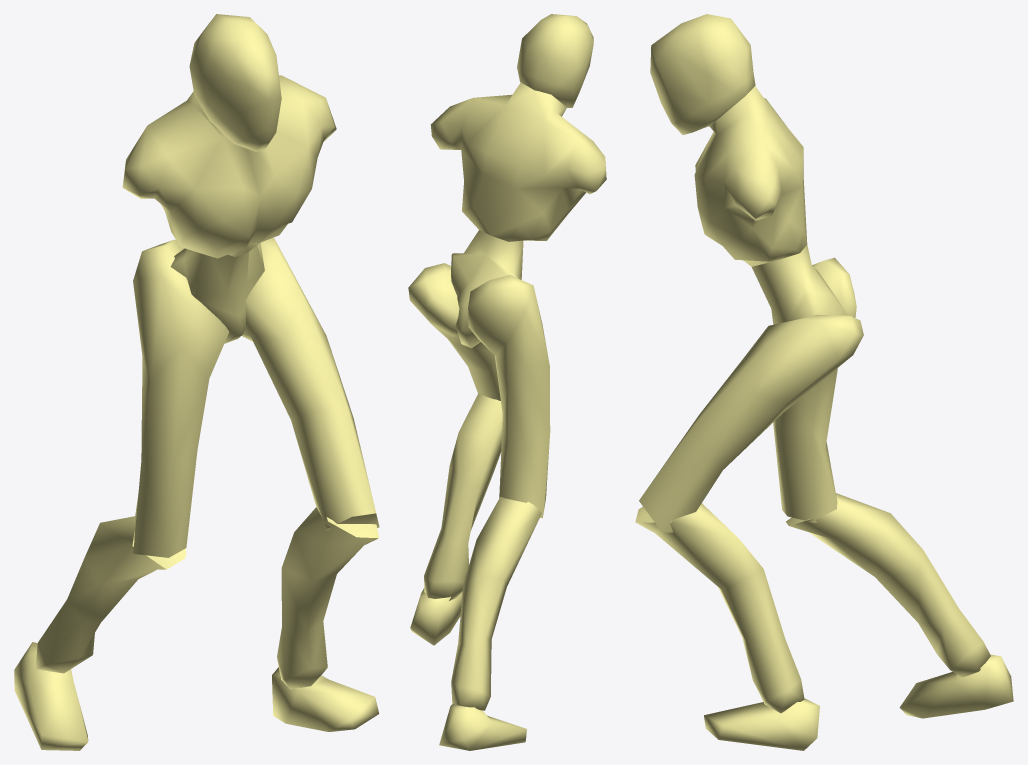
Rendered from filth37.obj.
The picture shows the model from 3 angles, left to right: view 1: azimuth 30°, elevation 25°; view 2: azimuth 150°, elevation 25°; view 3: azimuth 270°, elevation 25°; orthographic projection. The views are drawn at different scales.
Visible parts, largest first — view 1: Melee_Husk; view 2: Melee_Husk; view 3: Melee_Husk.
Part boxes in pixels (x1,y1,x2,y2): Melee_Husk: (14, 14, 379, 750); Melee_Husk: (408, 14, 606, 750); Melee_Husk: (635, 14, 1013, 750).
Size of the model in its own units: 22.92 by 75.44 by 36.08.
